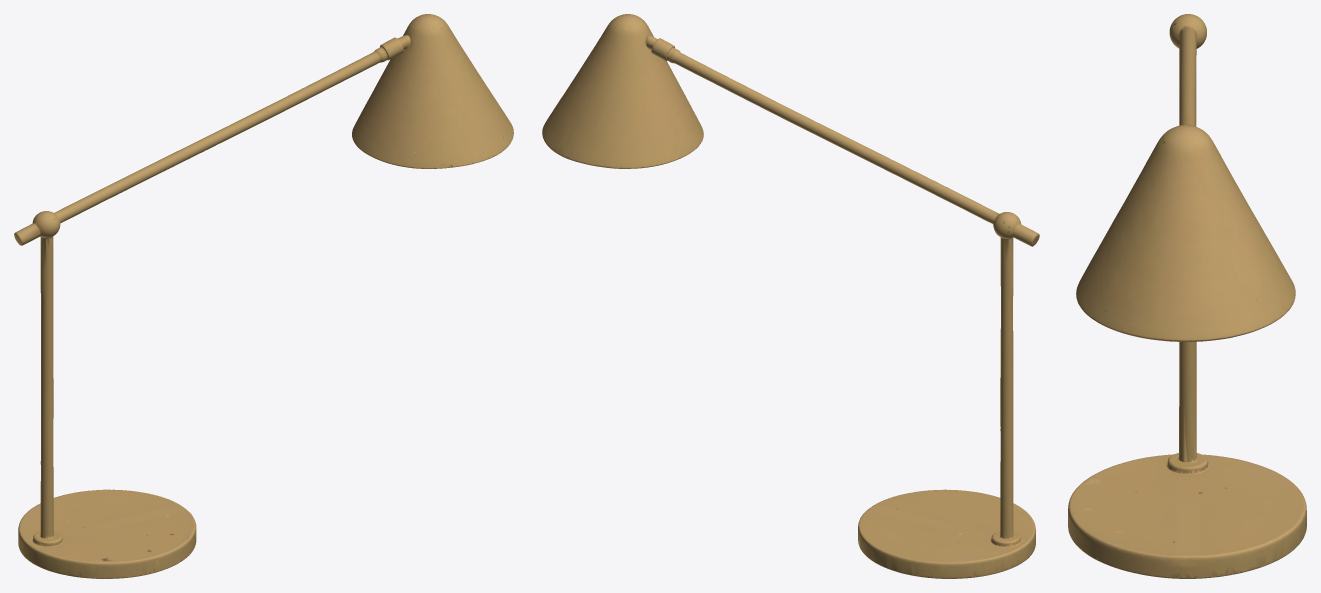
Rendered from lamp.glb.
The picture shows the model from 3 angles, left to right: view 1: azimuth 30°, elevation 25°; view 2: azimuth 150°, elevation 25°; view 3: azimuth 270°, elevation 25°; orthographic projection. The views are drawn at different scales.
Visible parts, largest first — view 1: node_0; view 2: node_0; view 3: node_0.
Boxes of the visible parts, bbox=[...] form: node_0: bbox=[14, 14, 513, 578]; node_0: bbox=[542, 14, 1039, 578]; node_0: bbox=[1068, 14, 1306, 578].
Bounding box in the file's own units: 0.9291 × 0.8188 × 0.2889.
Materials: 1 (1 with a texture image).
